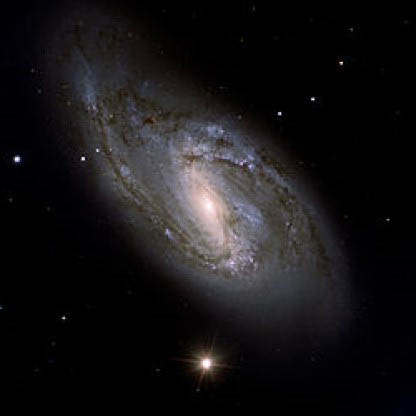Messier 66: (56, 29, 361, 403)
